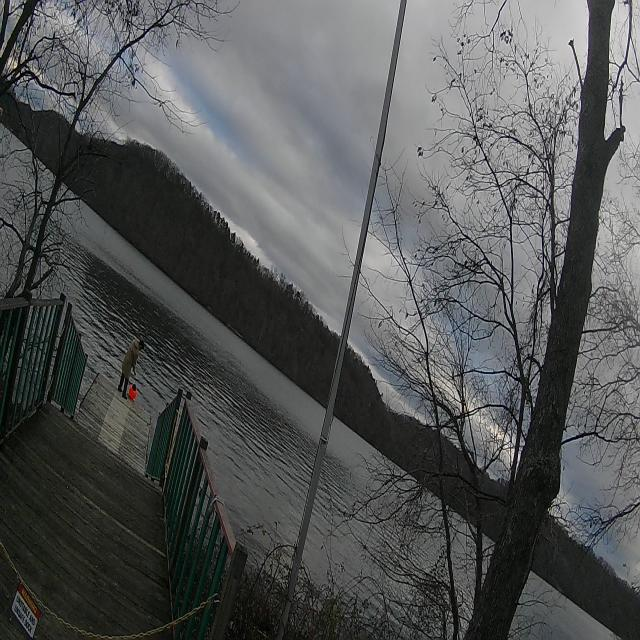Buoy: (129, 382, 138, 403)
